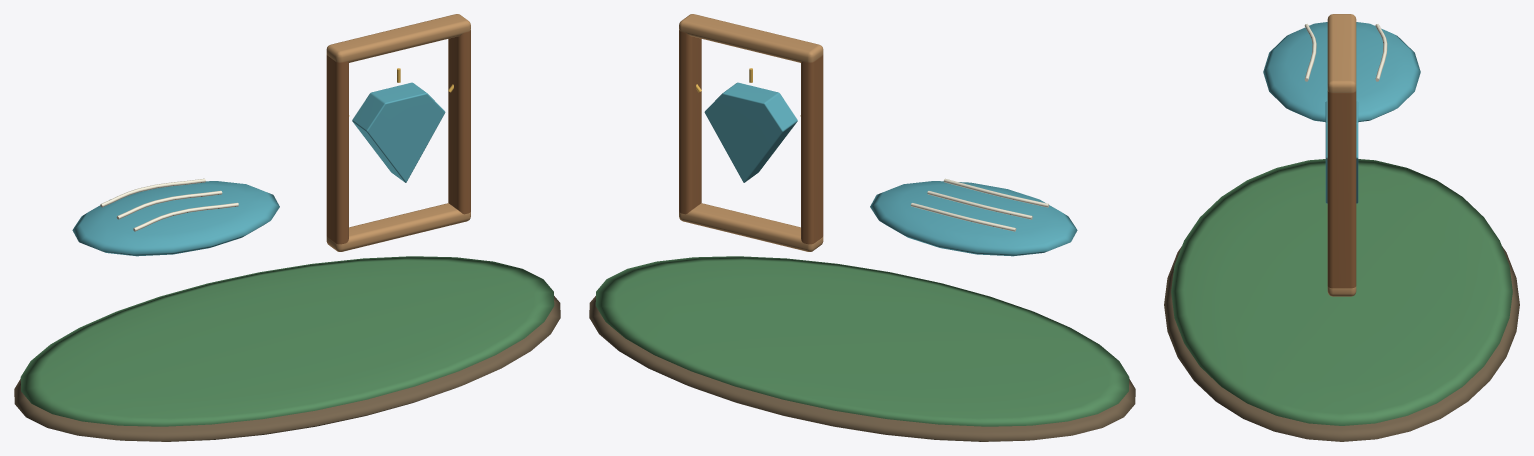
The model's file is complete-first-clear-outlined-view.glb.
3 renders of one model, left to right at view 1: azimuth 30°, elevation 25°; view 2: azimuth 150°, elevation 25°; view 3: azimuth 270°, elevation 25°, orthographic. The views are drawn at different scales.
Visible parts, largest first — view 1: complete-first-clear-outlined-view_surface_01, complete-first-clear-outlined-view_surface_02, complete-first-clear-outlined-view_surface_00, complete-first-clear-outlined-view_surface_04, complete-first-clear-outlined-view_surface_05, complete-first-clear-outlined-view_surface_03; view 2: complete-first-clear-outlined-view_surface_01, complete-first-clear-outlined-view_surface_02, complete-first-clear-outlined-view_surface_00, complete-first-clear-outlined-view_surface_04, complete-first-clear-outlined-view_surface_05, complete-first-clear-outlined-view_surface_03; view 3: complete-first-clear-outlined-view_surface_01, complete-first-clear-outlined-view_surface_02, complete-first-clear-outlined-view_surface_00, complete-first-clear-outlined-view_surface_04, complete-first-clear-outlined-view_surface_05, complete-first-clear-outlined-view_surface_03.
Part boxes in pixels (x1,y1,x2,y2): complete-first-clear-outlined-view_surface_01: (20, 256, 554, 426); complete-first-clear-outlined-view_surface_02: (72, 82, 445, 256); complete-first-clear-outlined-view_surface_00: (14, 296, 560, 441); complete-first-clear-outlined-view_surface_04: (326, 30, 470, 244); complete-first-clear-outlined-view_surface_05: (326, 14, 470, 251); complete-first-clear-outlined-view_surface_03: (100, 178, 238, 231); complete-first-clear-outlined-view_surface_01: (595, 256, 1129, 426); complete-first-clear-outlined-view_surface_02: (704, 82, 1077, 256); complete-first-clear-outlined-view_surface_00: (589, 296, 1135, 441); complete-first-clear-outlined-view_surface_04: (679, 30, 823, 244); complete-first-clear-outlined-view_surface_05: (679, 14, 823, 251); complete-first-clear-outlined-view_surface_03: (911, 178, 1049, 231); complete-first-clear-outlined-view_surface_01: (1171, 159, 1512, 425); complete-first-clear-outlined-view_surface_02: (1263, 22, 1420, 203); complete-first-clear-outlined-view_surface_00: (1164, 246, 1519, 441); complete-first-clear-outlined-view_surface_04: (1327, 91, 1356, 288); complete-first-clear-outlined-view_surface_05: (1327, 14, 1356, 296); complete-first-clear-outlined-view_surface_03: (1304, 23, 1387, 81).
Bounding box in the file's own units: 4.56 × 2.58 × 2.5.
